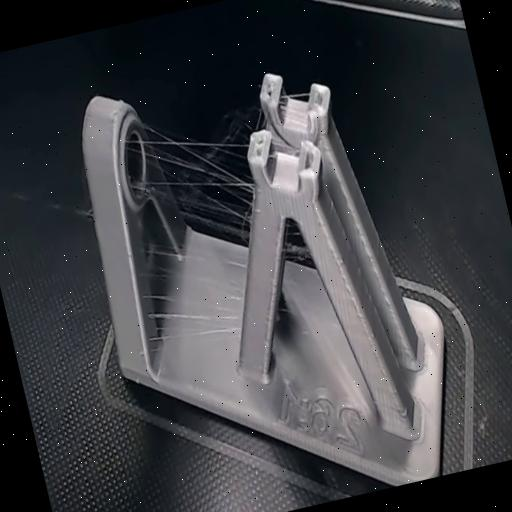stringing: (122, 74, 277, 224), (127, 216, 254, 363)
